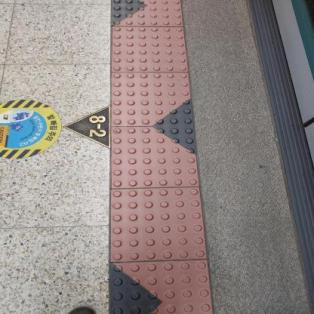Podoctatil: (100, 0, 222, 313)
